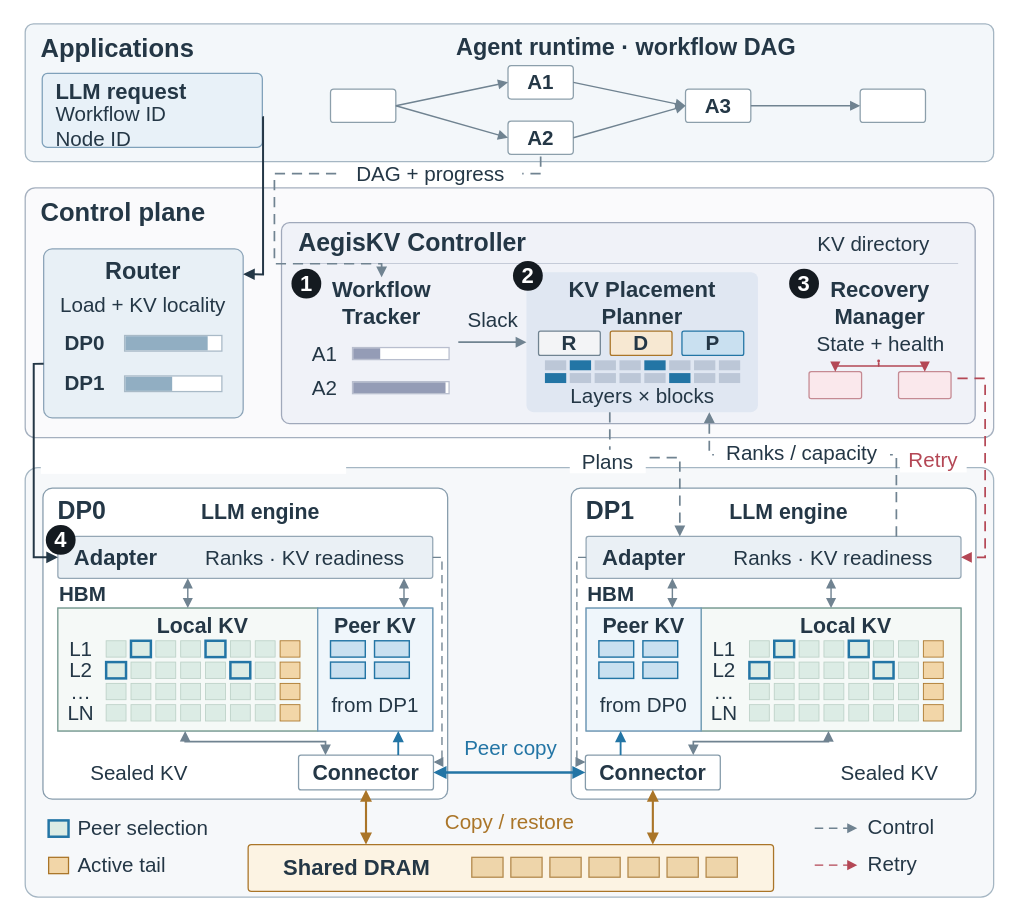
This 1018x919 diagram has some shape labels left out. The shapes that lost their labels are listed below. From the top down, each one's centre as x and y in pixels, then its label:
At point (363, 105): "A0".
At point (892, 105): "A4".
At point (835, 385): "r1".
At point (924, 385): "r2".
At point (193, 458): "Inference engines".
